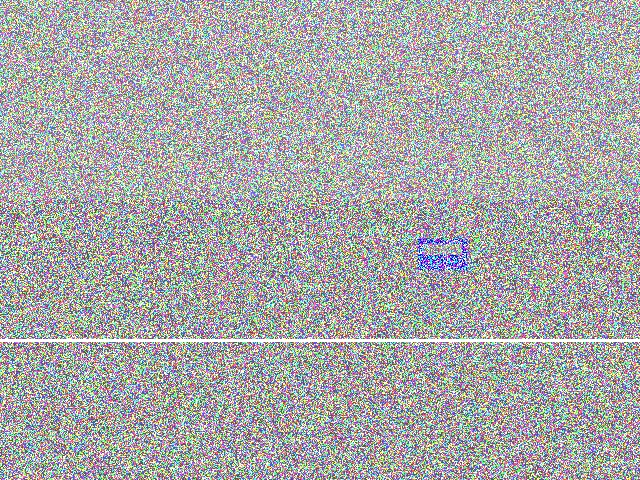car: (289, 334, 363, 475)
motorcycle: (289, 135, 460, 263)
truck: (521, 236, 609, 324)
